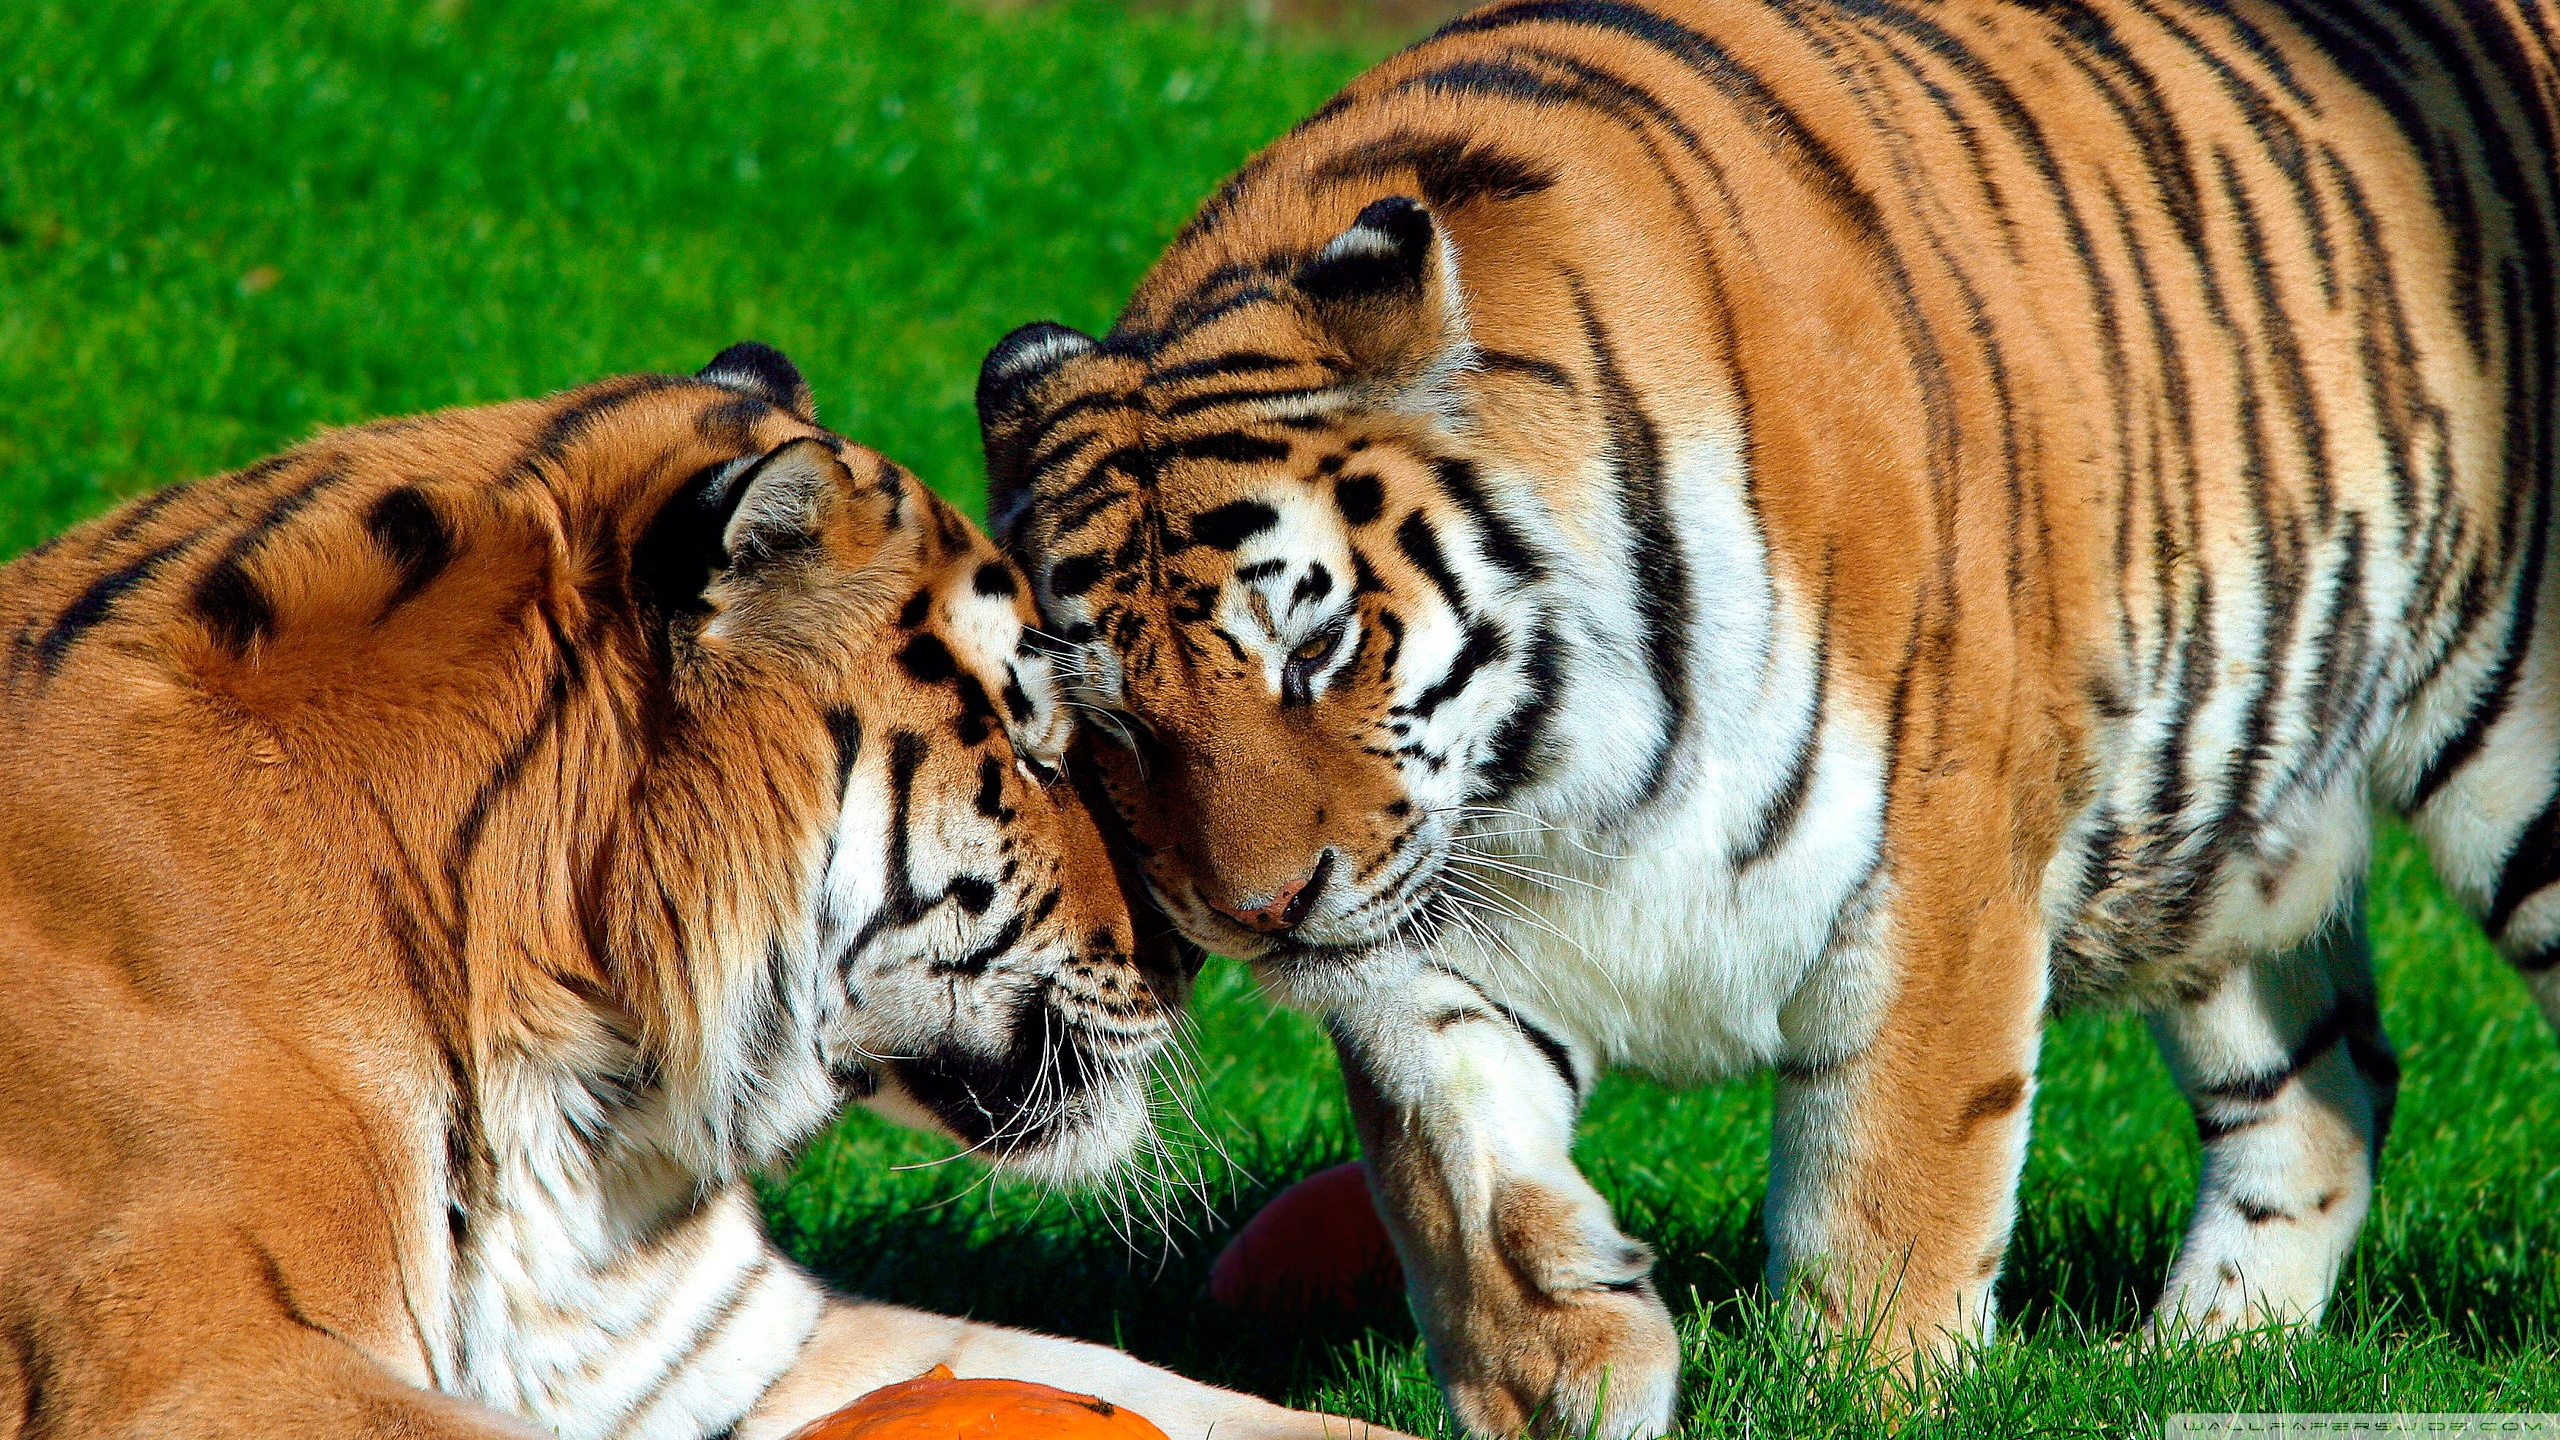tiger: (999, 23, 2560, 1373), (5, 322, 1336, 1440)
